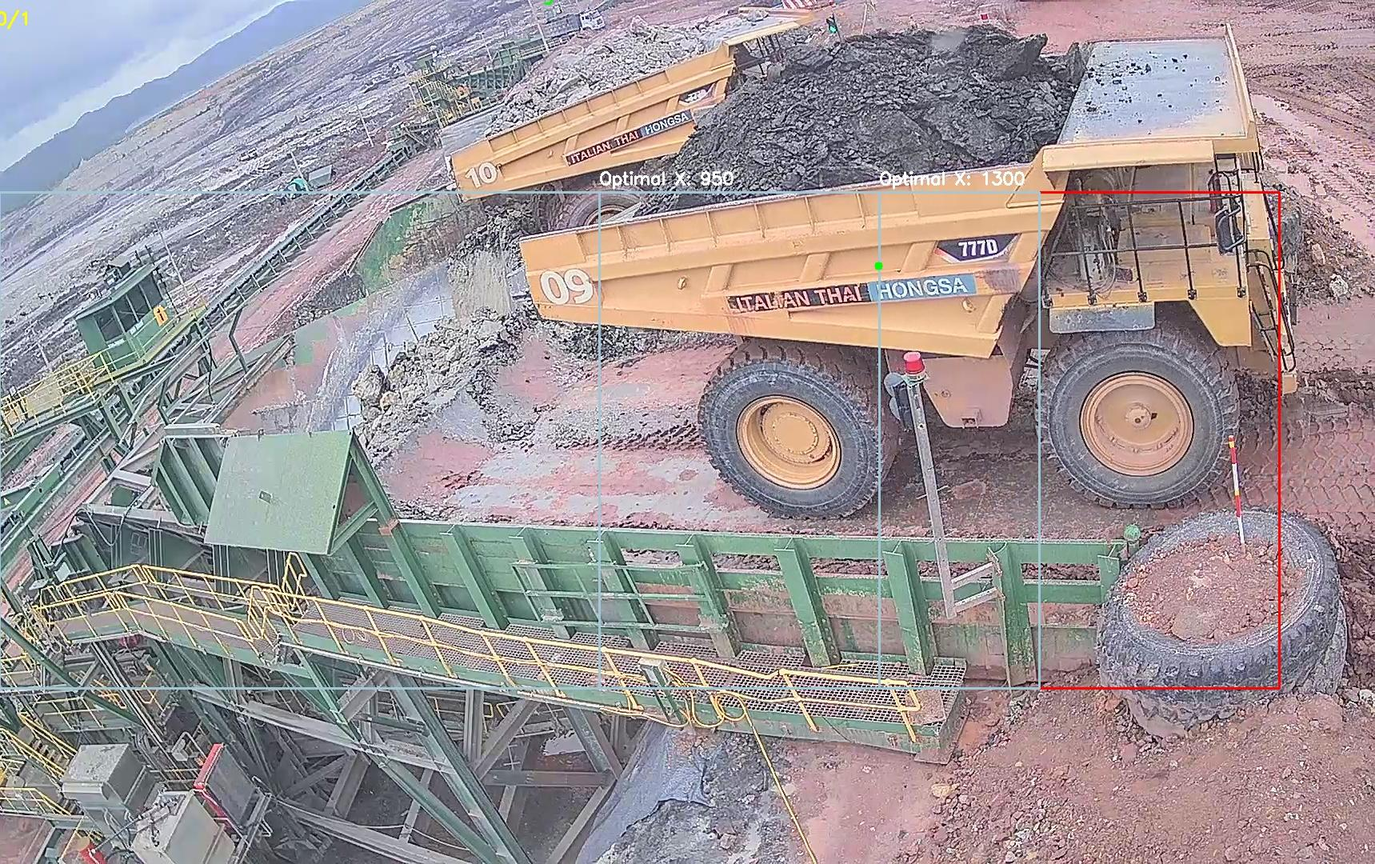company: (712, 270, 995, 312)
full_load: (638, 17, 1065, 203)
mining_truck: (506, 3, 1318, 525)
tail_number: (529, 261, 600, 310)
truck_size: (932, 231, 1025, 264)
